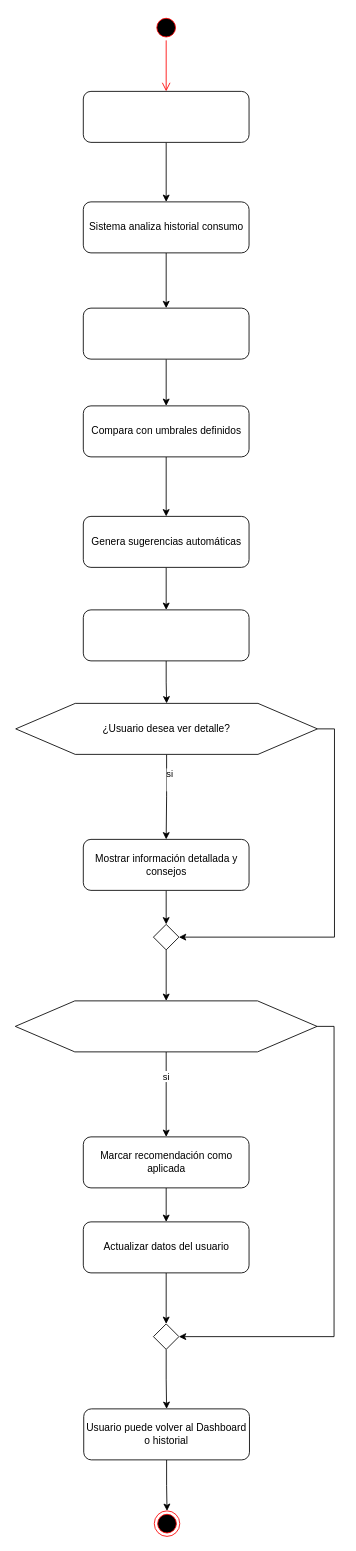
The diagram is 356 pixels wide and 1551 high, and some of its shapes have lost their labels. Each missing label, with the box of its shape:
Identifica patrones de alto consumo: (82, 307, 249, 359)
Mostrar lista de recomendaciones personalizada: (82, 609, 249, 661)
Usuario accede al modulo de "Recomendaciones": (82, 91, 249, 142)
¿Usuario aplica recomendación?: (14, 1000, 317, 1052)
